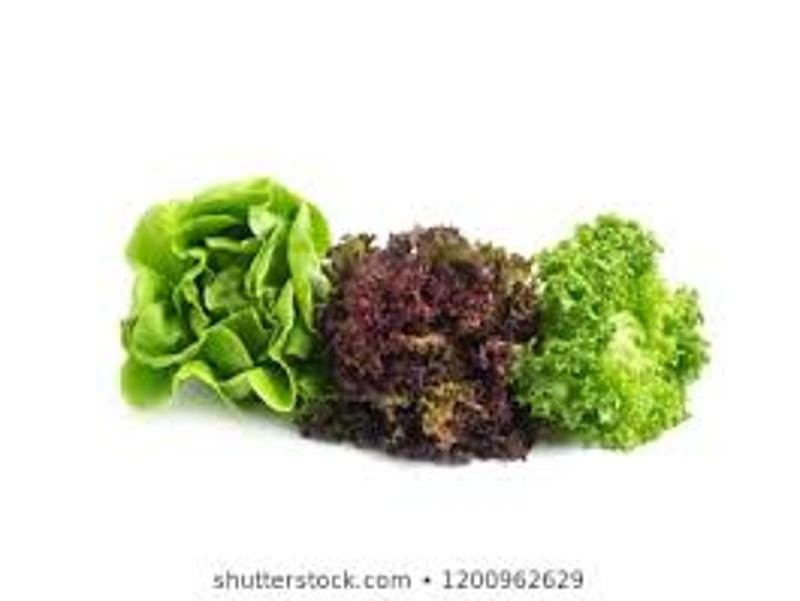cabbage: (118, 180, 343, 408)
green lettuce: (534, 206, 708, 454)
red lettuce: (342, 219, 535, 462)
